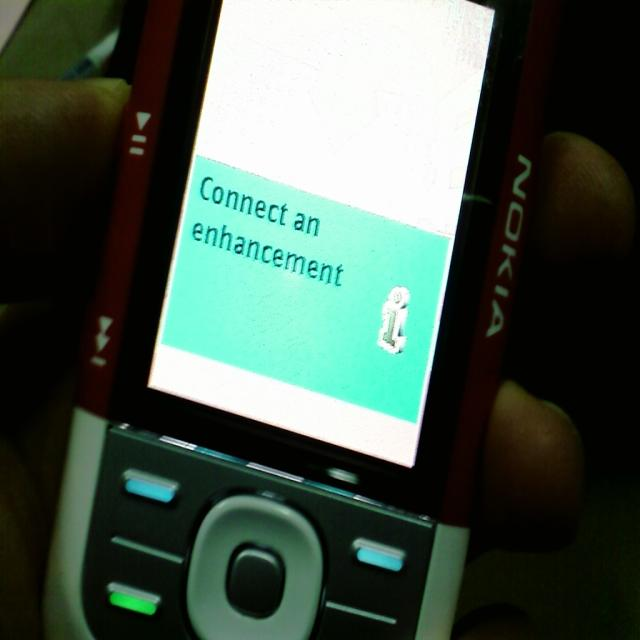Mobile-phone: (40, 0, 565, 639)
